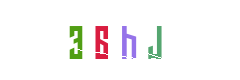3: (61, 0, 141, 80)
6: (69, 0, 149, 80)
H: (80, 0, 160, 80)
J: (86, 0, 166, 80)
